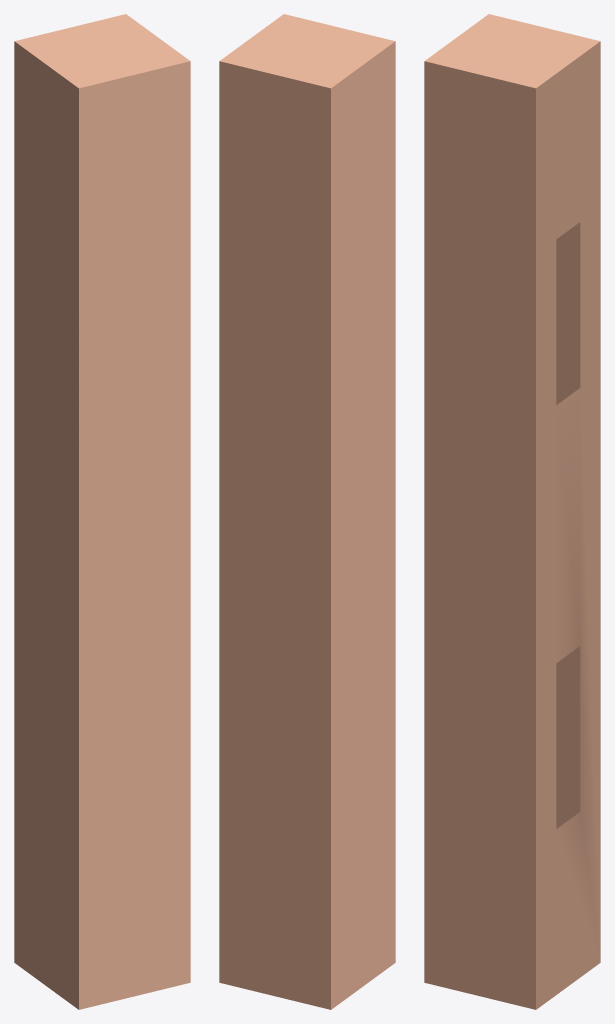
The model's file is crafted-gate-post-right.glb.
3 renders of one model, left to right at view 1: azimuth 30°, elevation 25°; view 2: azimuth 150°, elevation 25°; view 3: azimuth 330°, elevation 25°, orthographic.
Visible parts, largest first — view 1: post-0; view 2: post-0; view 3: post-0, post-1.
Boxes of the visible parts, <box> form: post-0: <box>14,14,190,1009</box>; post-0: <box>219,14,395,1009</box>; post-0: <box>424,14,600,1009</box>; post-1: <box>536,41,600,1009</box>.
Size of the model in its own units: 0.07 by 0.552 by 0.07.
